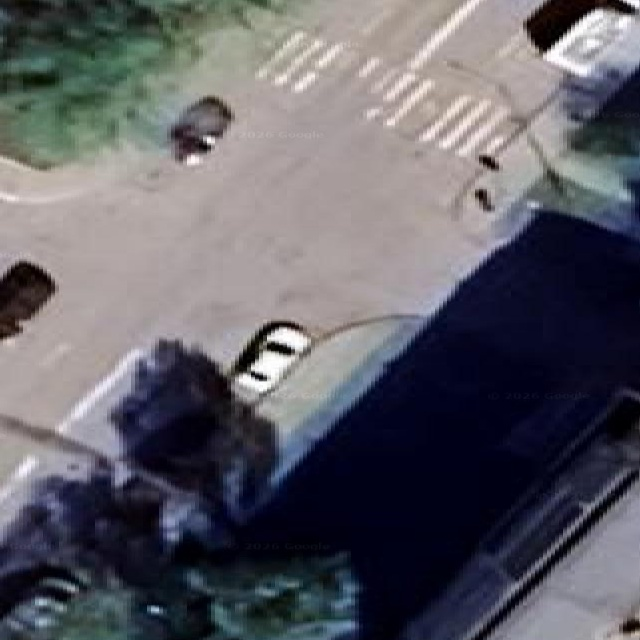car: (0, 569, 87, 638), (233, 322, 311, 395), (0, 256, 55, 338), (169, 96, 233, 164)
